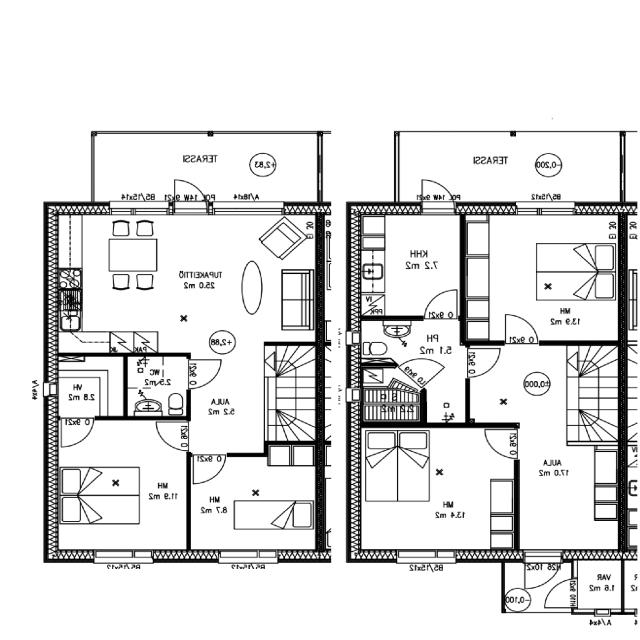door: (395, 346, 445, 390), (525, 549, 561, 594), (423, 172, 455, 215), (175, 174, 207, 214), (194, 452, 227, 487), (506, 312, 538, 346), (464, 349, 502, 377), (540, 578, 578, 606), (425, 287, 457, 320), (186, 360, 223, 388), (62, 415, 93, 448), (156, 423, 191, 450), (485, 431, 519, 457)
